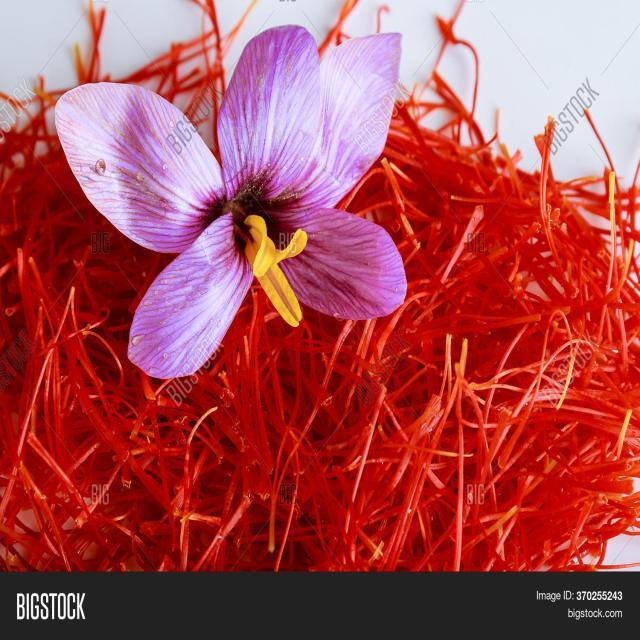Flower: (54, 23, 410, 379)
stigma: (428, 14, 482, 118)
